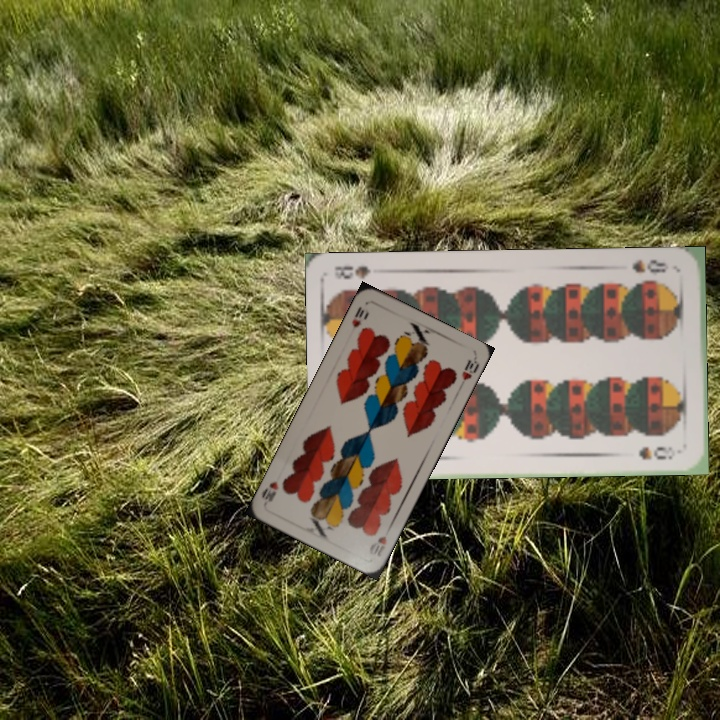H10: (347, 302, 367, 330), (369, 532, 389, 559)
S8: (628, 255, 671, 276)
